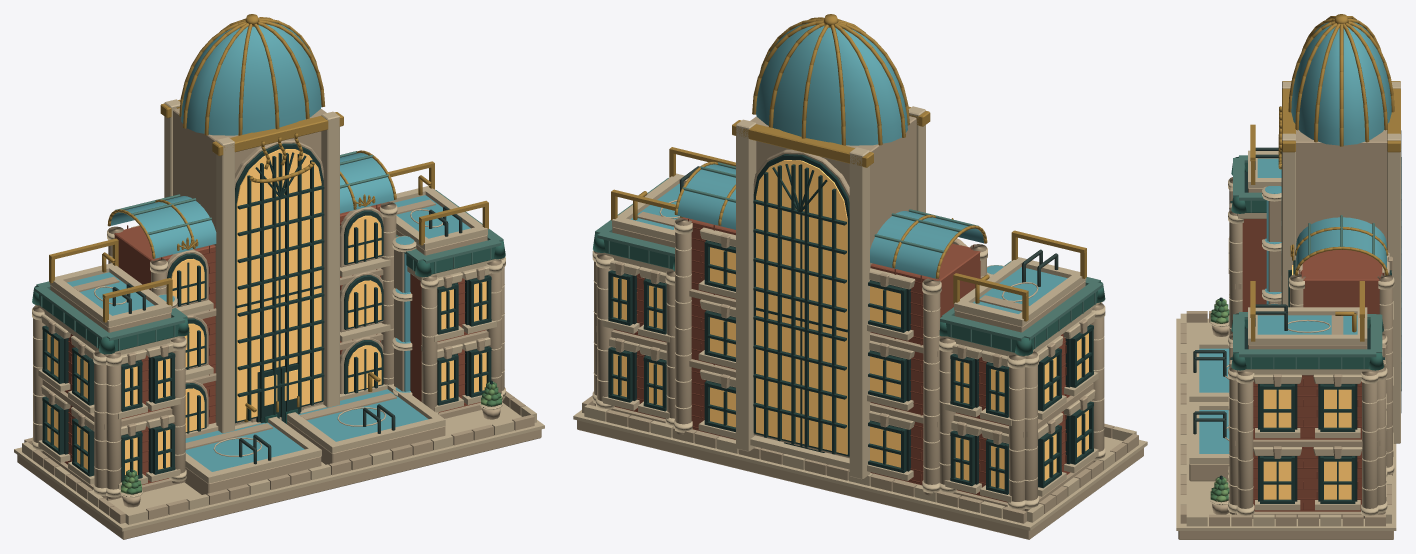
3 renders of one model, left to right at view 1: azimuth 30°, elevation 25°; view 2: azimuth 150°, elevation 25°; view 3: azimuth 270°, elevation 25°, orthographic. The views are drawn at different scales.
Visible parts, largest first — view 1: expansion_onsen_3_geometry; view 2: expansion_onsen_3_geometry; view 3: expansion_onsen_3_geometry.
Part boxes in pixels (left/top/right/bottom): expansion_onsen_3_geometry: left=14, top=14, right=544, bottom=539; expansion_onsen_3_geometry: left=573, top=14, right=1147, bottom=539; expansion_onsen_3_geometry: left=1176, top=14, right=1401, bottom=539.
Bounding box in the file's own units: 2.24 × 2.1 × 1.02.
